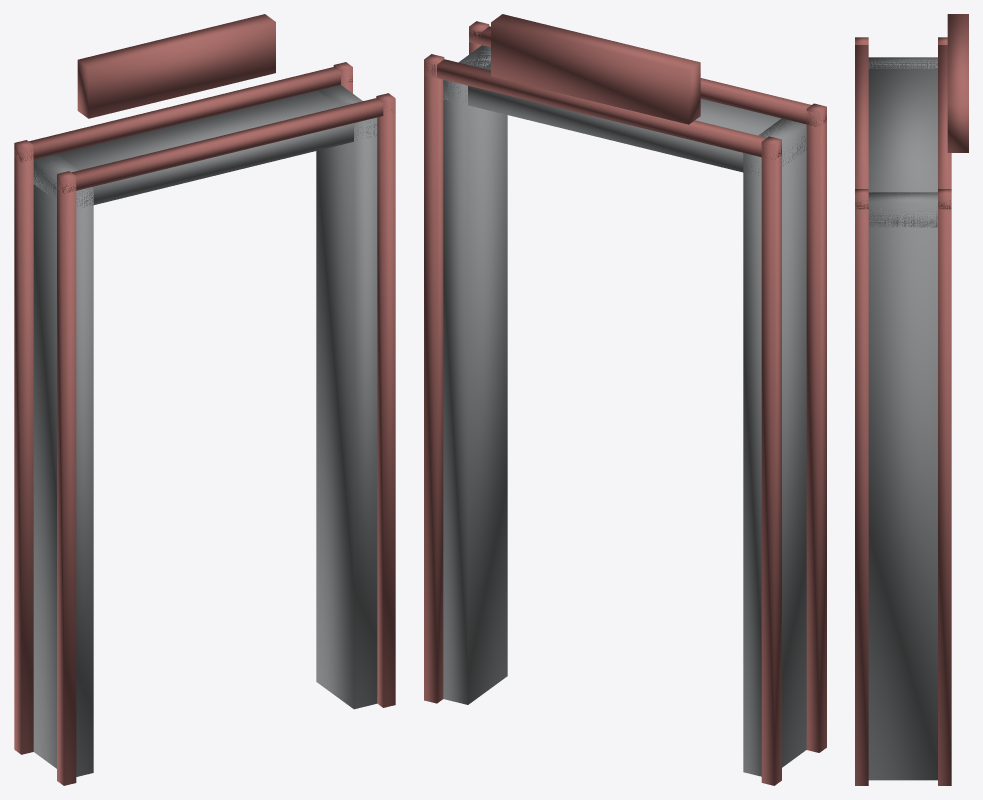
Rendered from doorway_emergency_exit_w96_h200_d24.glb.
3 renders of one model, left to right at view 1: azimuth 30°, elevation 25°; view 2: azimuth 150°, elevation 25°; view 3: azimuth 270°, elevation 25°, orthographic. The views are drawn at different scales.
Visible parts, largest first — view 1: world; view 2: world; view 3: world.
Boxes of the visible parts, x1,y1,x2,y2 form: world: (14, 14, 395, 785); world: (424, 14, 826, 785); world: (855, 14, 968, 785).
Size of the model in its own units: 1.22 by 2.35 by 0.3733.
